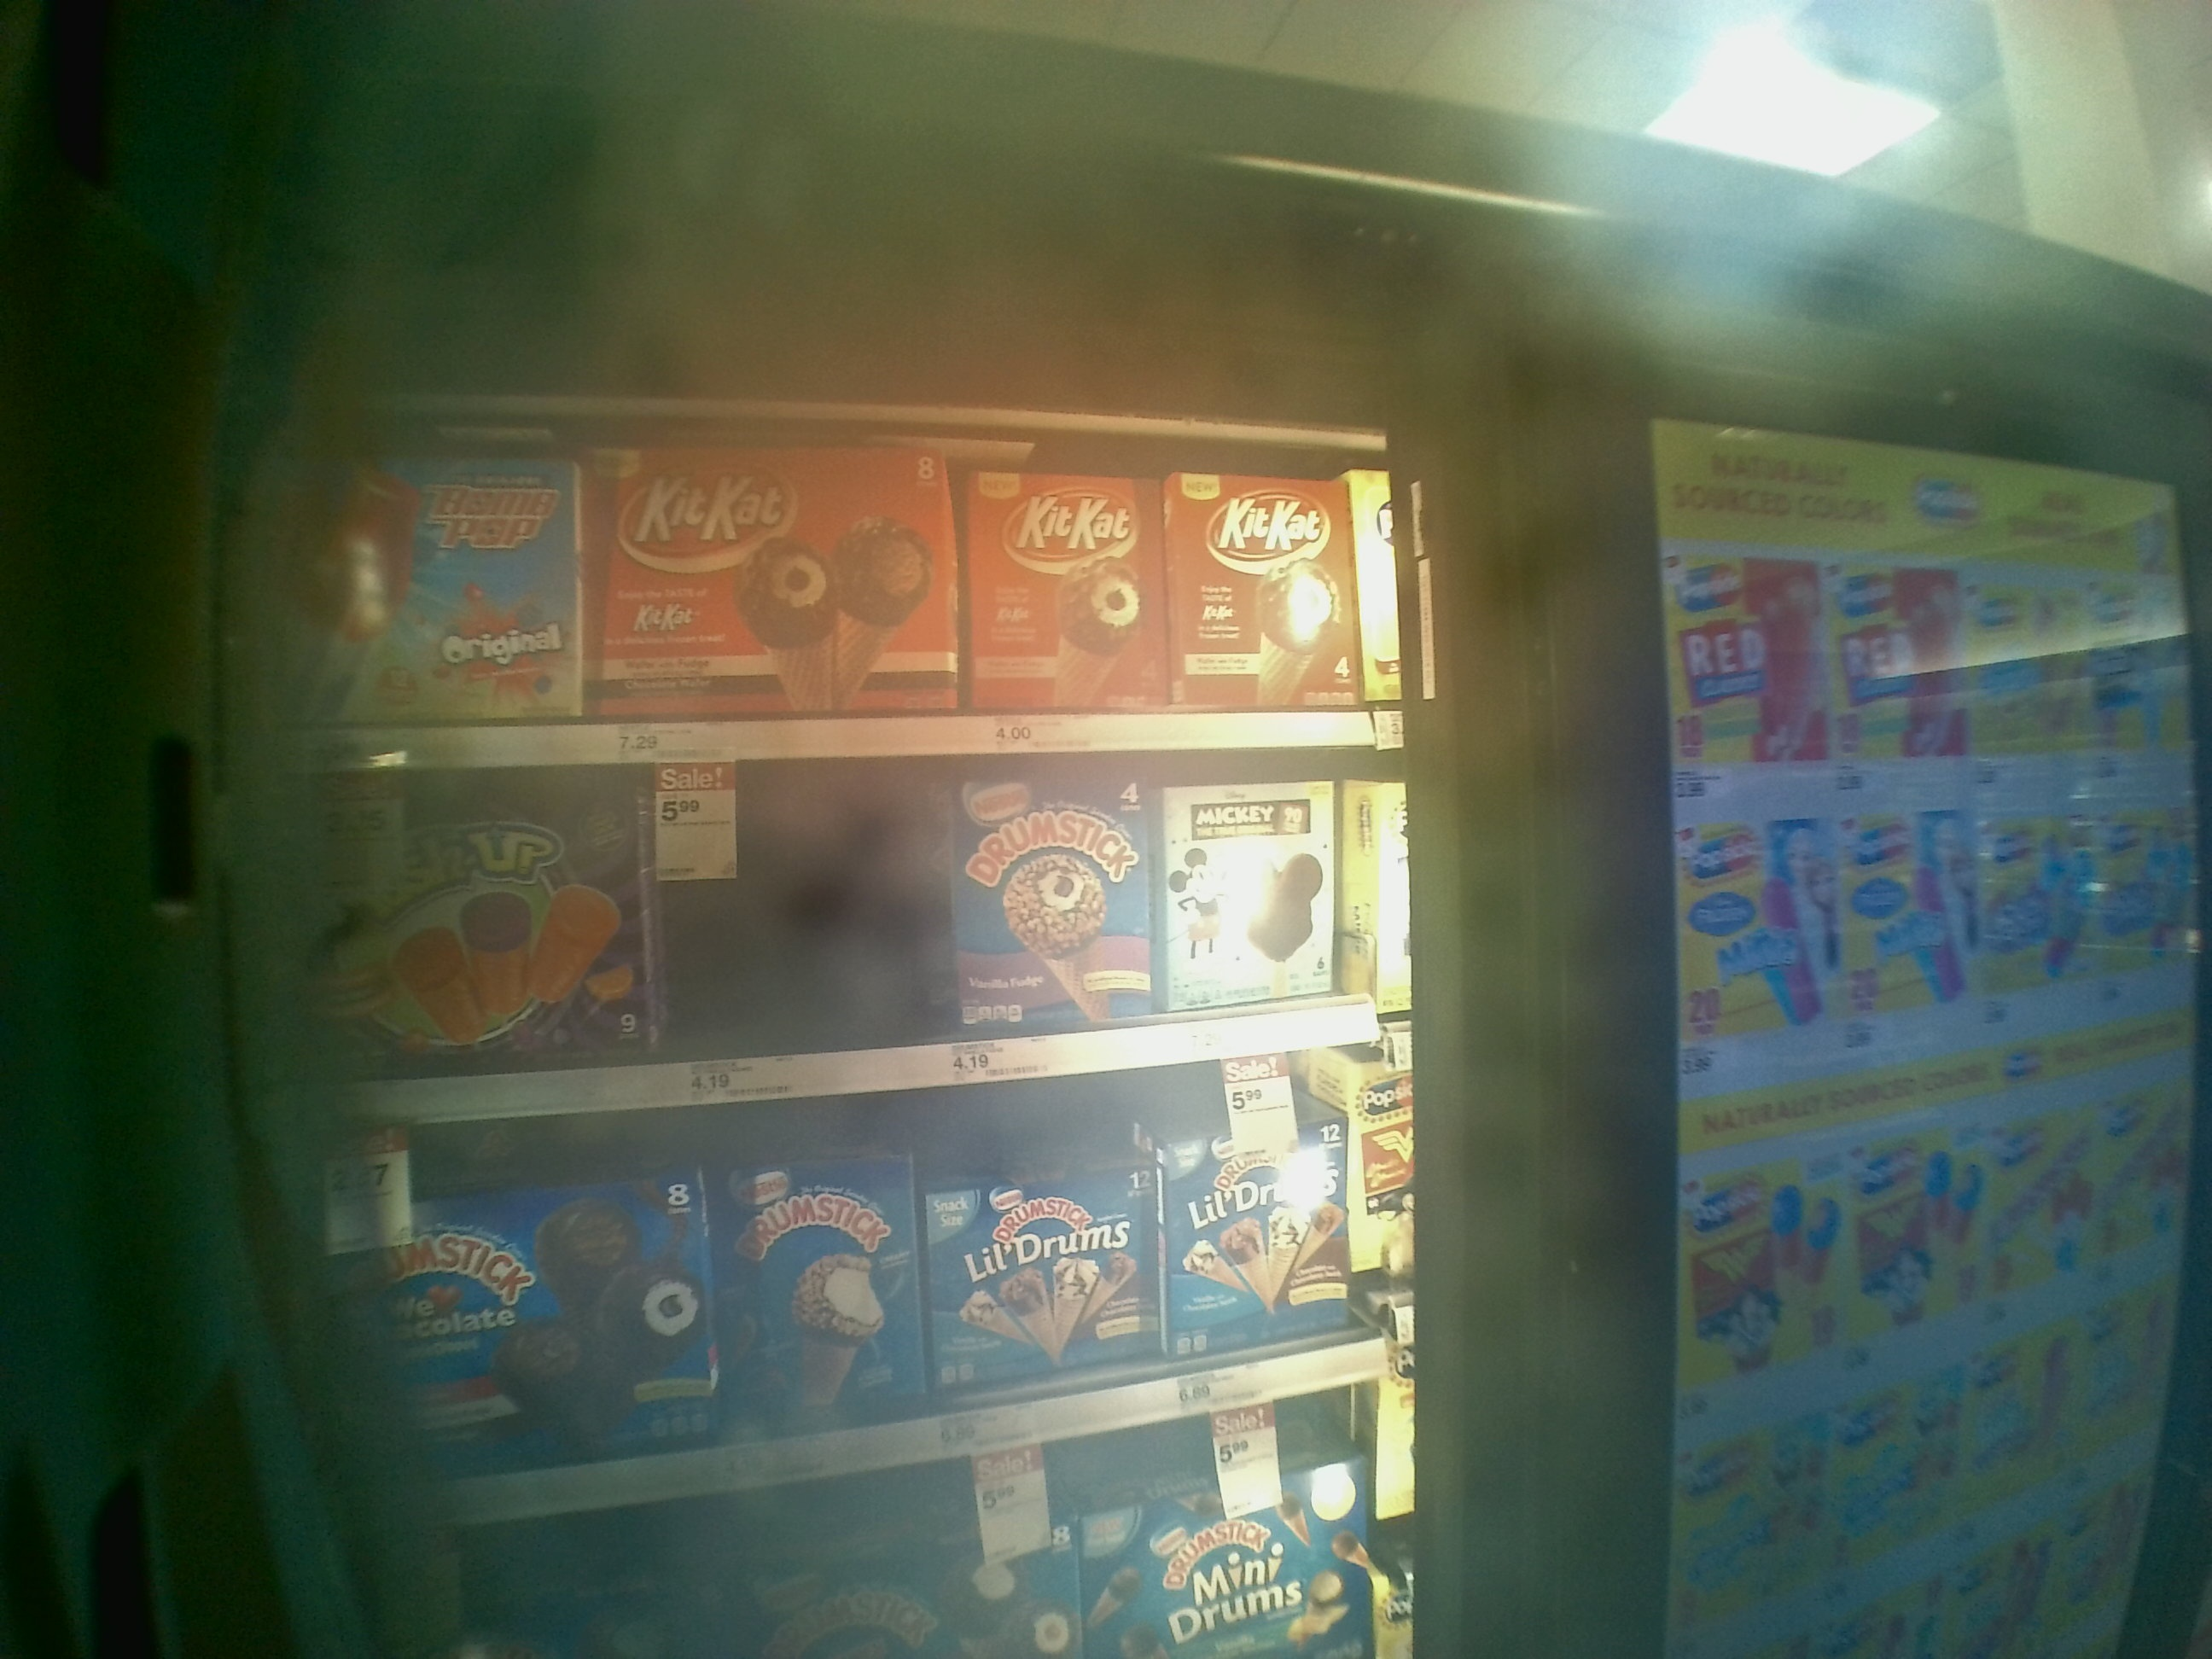shelf: (310, 1040, 1407, 1527), (315, 753, 1418, 1121), (324, 415, 1413, 762)
